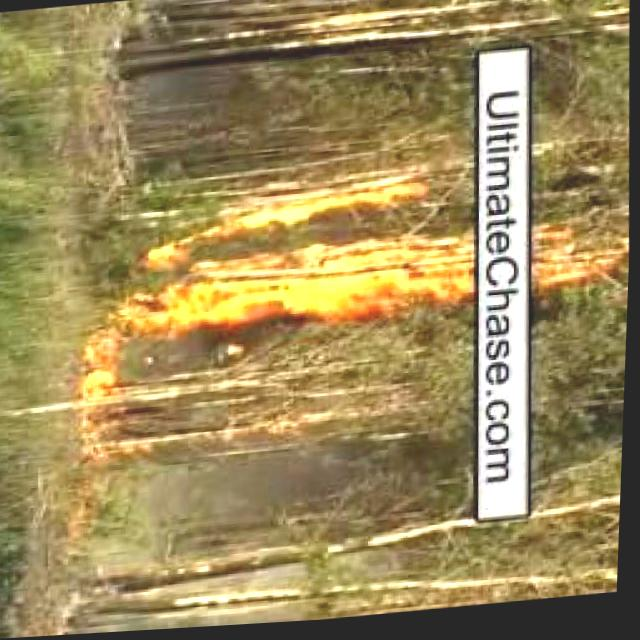helmet: (132, 168, 433, 338), (533, 218, 629, 293), (72, 307, 129, 419), (427, 245, 479, 300)
